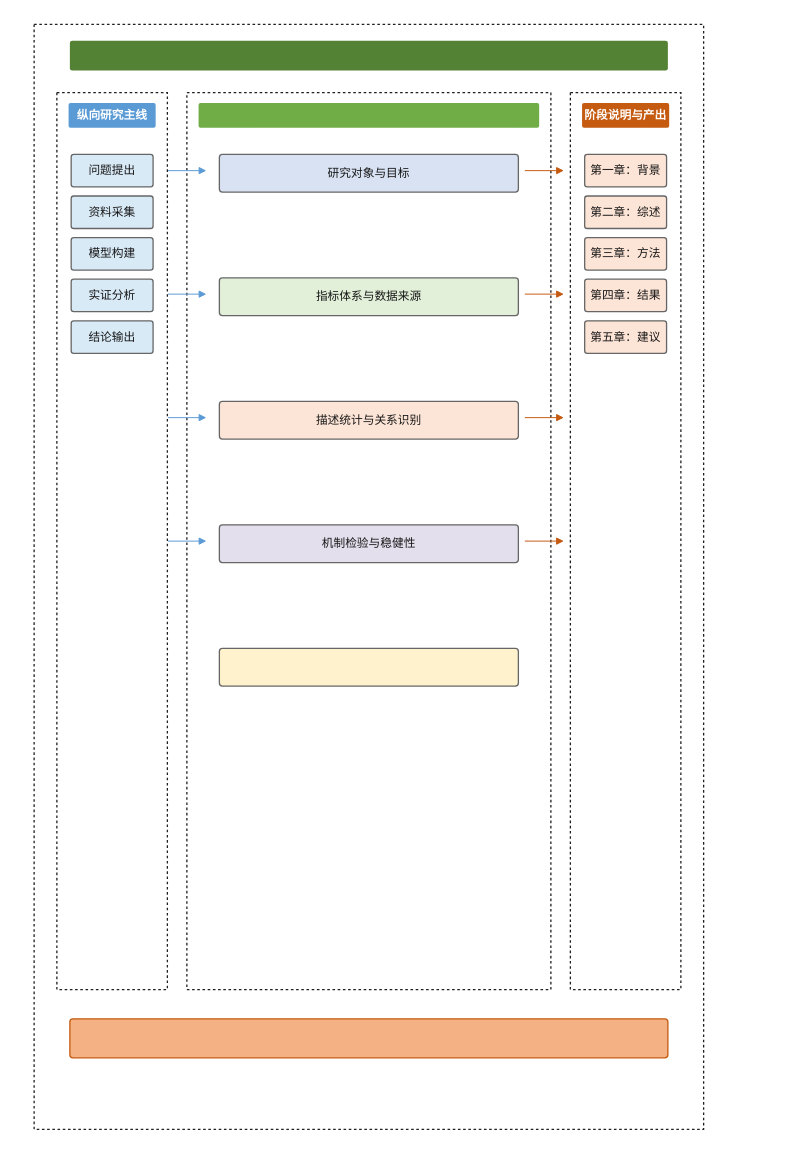
Some shapes in this 806 by 1155 pixel diagram are drawn without their labels. The shapes that lost their labels are listed below. From the top down, each one's centre as x and y in pixels, then its label:
At (369,55): "纵向研究设计与实证闭环图".
At (368,115): "数据—方法—结果组织".
At (368,666): "策略建议与成果".
At (368,1038): "形成可复核的研究闭环：问题—数据—方法—结果—建议".
